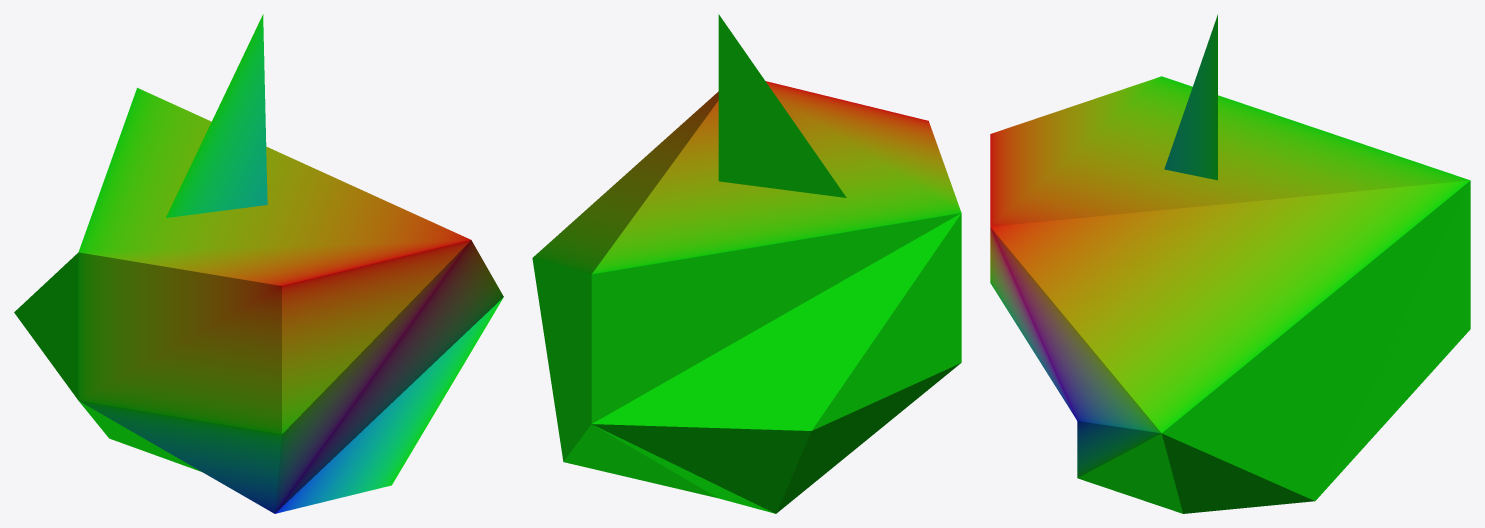
Rendered from problem_type.obj.
3 views of the same model, side by side, from view 1: azimuth 30°, elevation 25°; view 2: azimuth 150°, elevation 25°; view 3: azimuth 270°, elevation 25° (orthographic).
Bounding box in the file's own units: 1.85 × 2 × 1.81.
